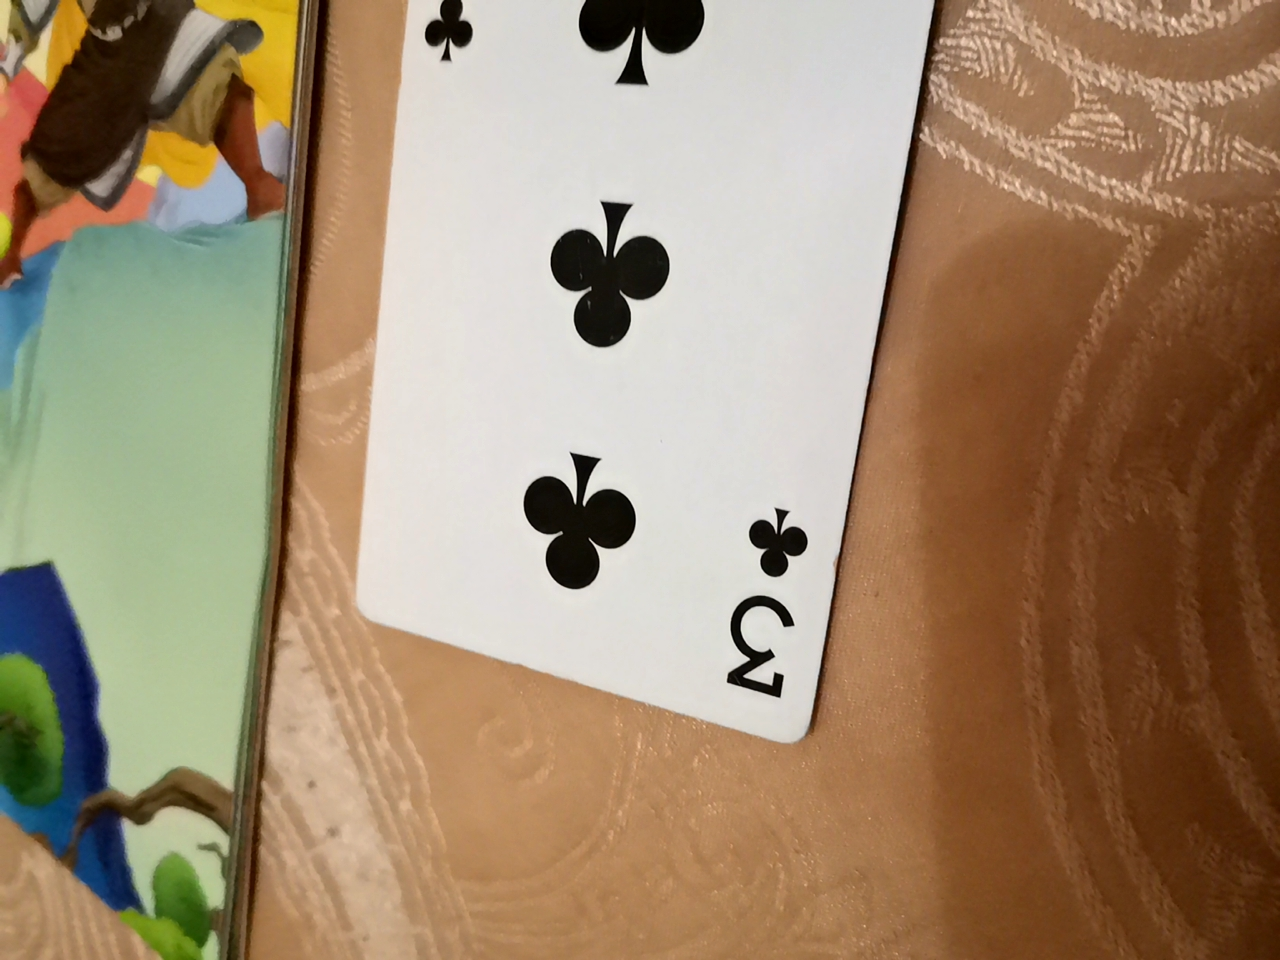mh 3: (345, 3, 945, 750)
